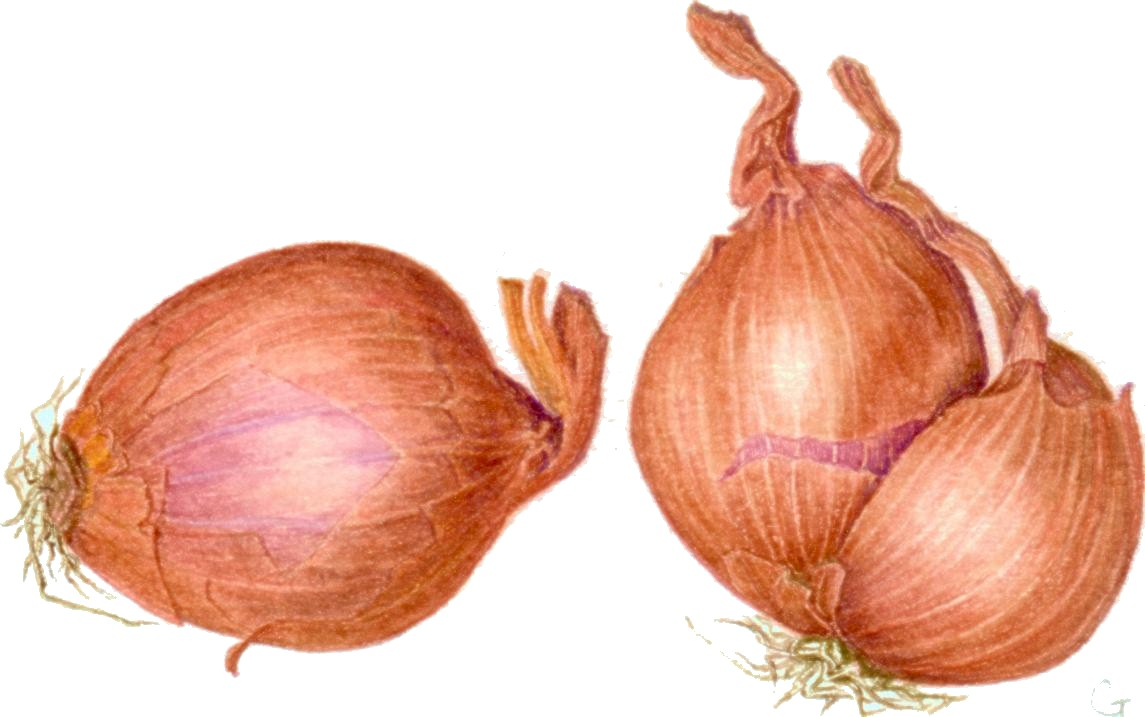onion: (9, 3, 1143, 715)
